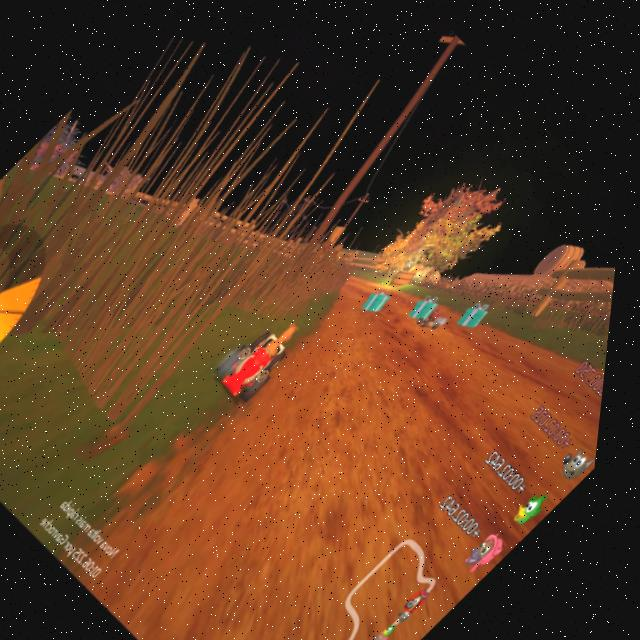bonus: (456, 287, 504, 335), (360, 277, 403, 320)
off_track: (0, 42, 357, 390)
player_kart: (208, 296, 323, 411)
track: (279, 297, 591, 613)
